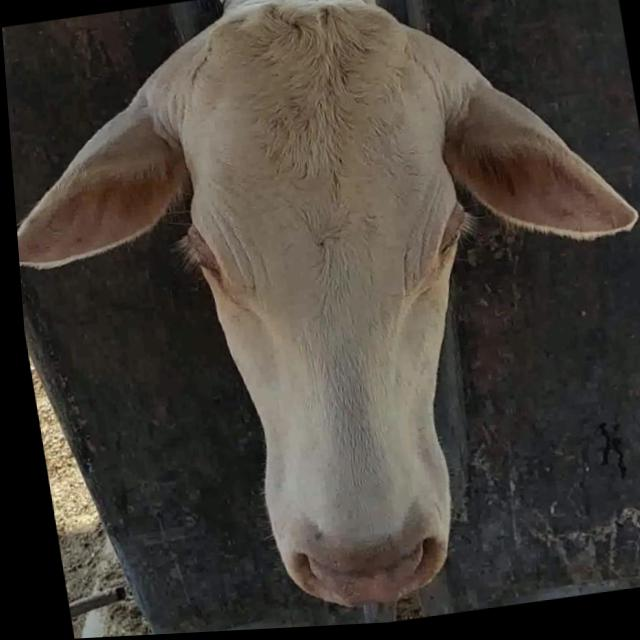cowFace: (149, 0, 514, 632)
